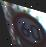Speed Limit -60-: (7, 7, 46, 47)
